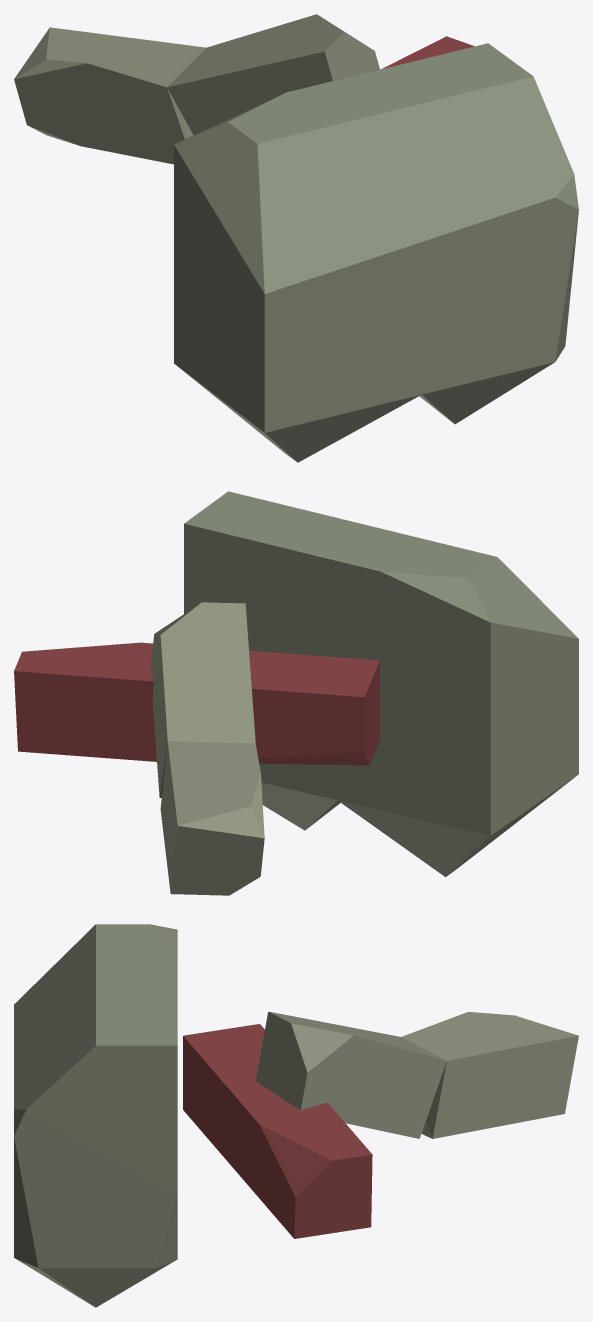
File: railing_broken.fbx
3 renders of one model, top to bottom at view 1: azimuth 30°, elevation 25°; view 2: azimuth 150°, elevation 25°; view 3: azimuth 270°, elevation 25°, orthographic. The views are drawn at different scales.
Visible parts, largest first — view 1: railing_broken; view 2: railing_broken; view 3: railing_broken.
Boxes of the visible parts, x1,y1,x2,y2 form: railing_broken: [14, 14, 578, 462]; railing_broken: [14, 491, 578, 895]; railing_broken: [14, 924, 578, 1307].
Size of the model in its own units: 130 by 100 by 173.
